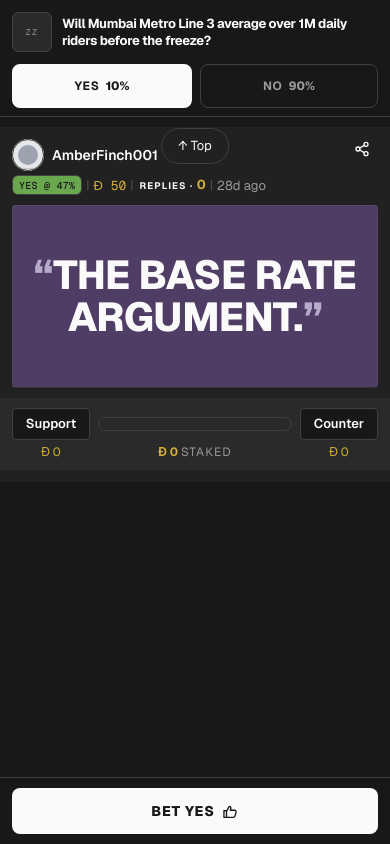
Test: MOBILE-2k · F-1 — the pill is absent until the reader is deep and rising › phone-top-pill::absent-while-a-sheet-holds-the-lock
The image size is (390, 844).
(page scrolled)
Expected: the button with test id "phone-top-pill" is shown, [161,128,229,164]
Click the button "Bet YES": (195, 811) [12,788,378,834]
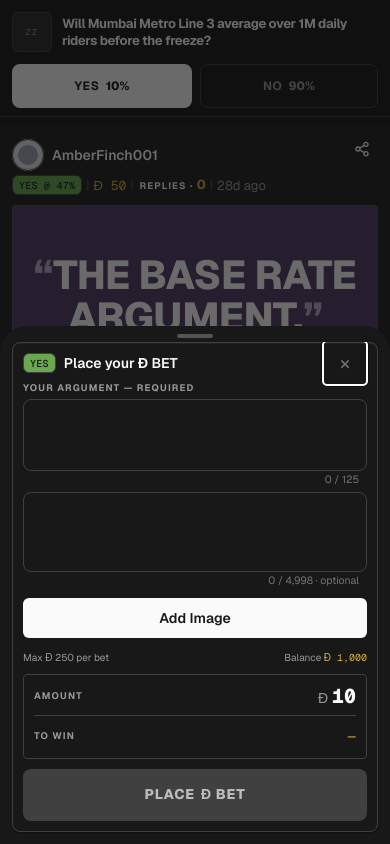
Expected: the dialog with test id "phone-sheet" is shown
Expected: the button with test id "phone-top-pill" is gone
